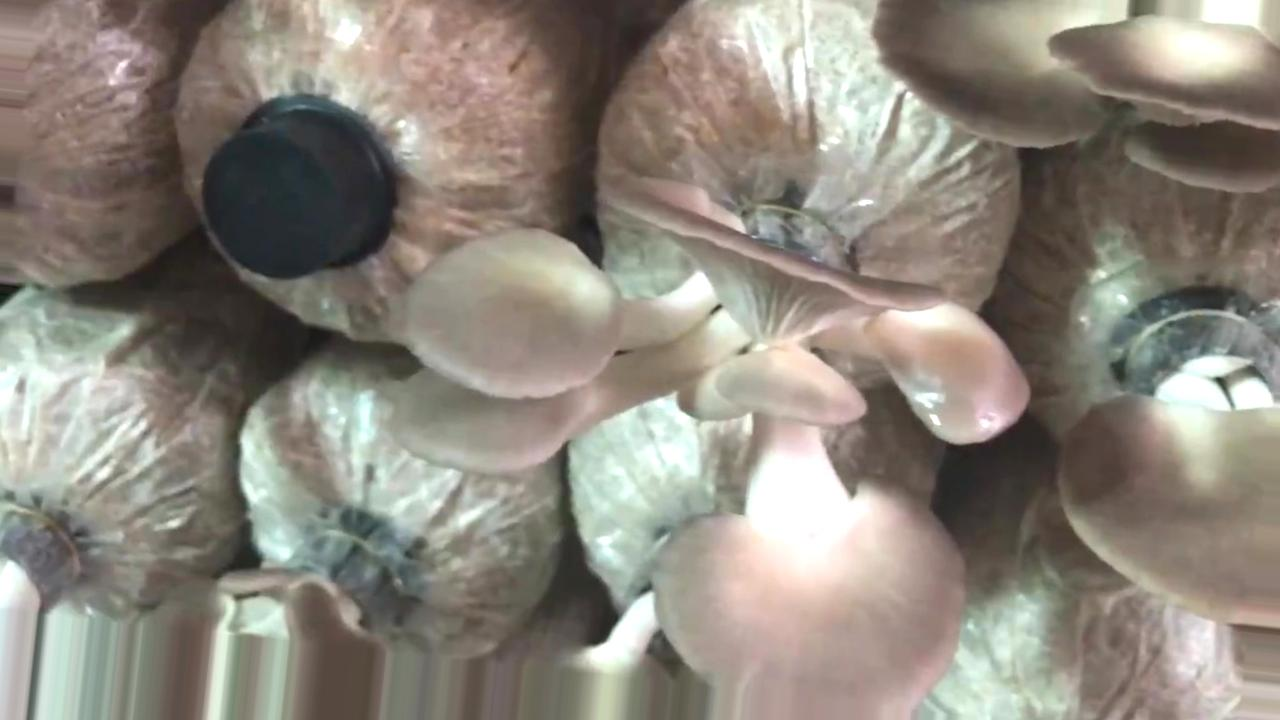nam: (375, 162, 1032, 720), (1053, 285, 1280, 633), (873, 1, 1276, 196)
